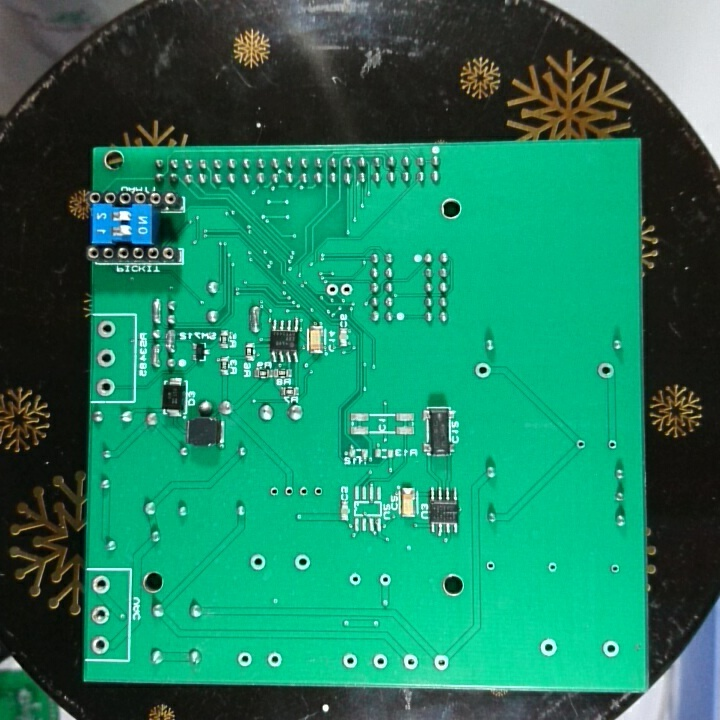F: (94, 346, 119, 369), (89, 603, 112, 627), (94, 374, 117, 398), (537, 635, 559, 660), (89, 572, 111, 597), (88, 633, 111, 656), (95, 318, 118, 341), (599, 638, 622, 660), (595, 359, 616, 381), (248, 551, 268, 574), (472, 360, 493, 381), (431, 652, 450, 675), (400, 652, 420, 673), (370, 650, 390, 671), (292, 552, 312, 573), (264, 649, 283, 670), (340, 650, 358, 672), (235, 649, 253, 669), (377, 570, 393, 590), (347, 570, 364, 588), (295, 483, 312, 500), (323, 281, 339, 299), (339, 280, 354, 299), (281, 480, 294, 501), (311, 483, 325, 502), (573, 437, 588, 454), (605, 436, 619, 454), (608, 560, 622, 578), (545, 559, 559, 575), (267, 483, 280, 500), (483, 559, 498, 572)
P: (248, 303, 262, 336), (149, 296, 163, 327), (149, 340, 162, 369), (164, 326, 177, 354)
